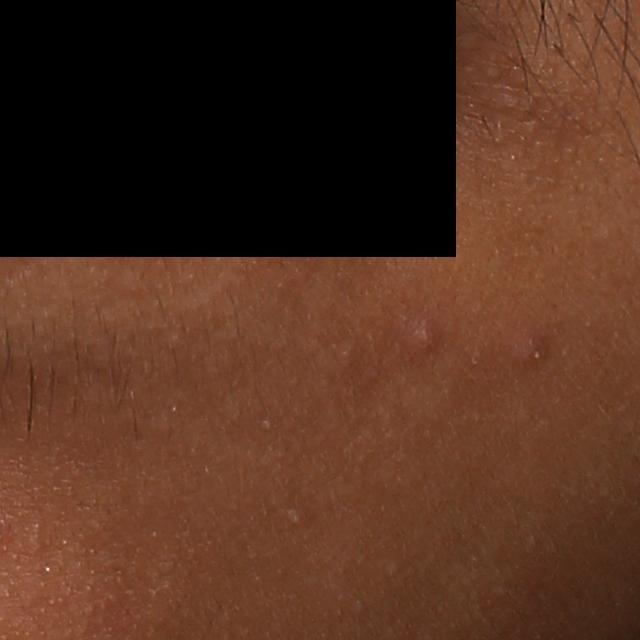papule: (406, 313, 443, 358), (516, 335, 553, 371)
